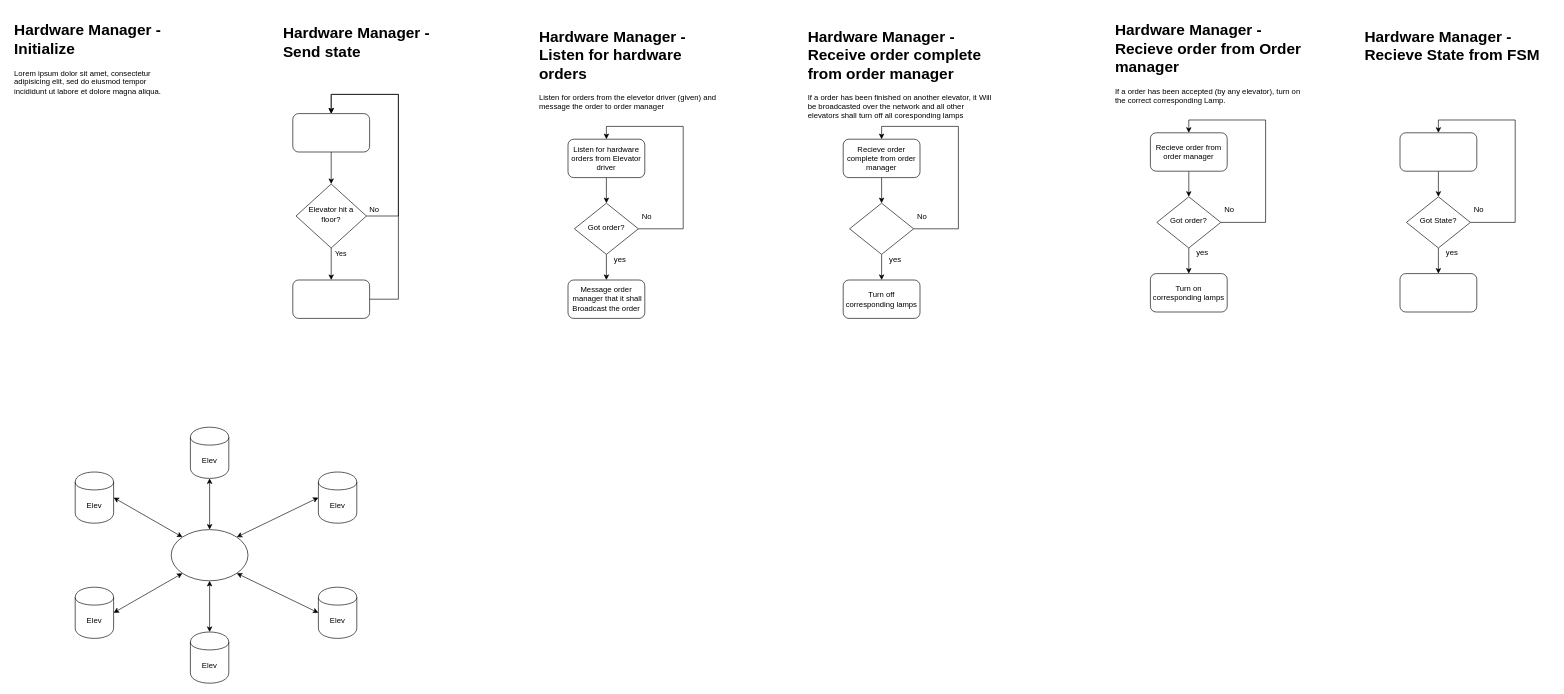
The diagram is 1564 pixels wide and 694 high, and some of its shapes have lost their labels. The shapes that lost their labels are listed below. From the top down, each one's centre as x and y in pixels, then its label:
point 331,132: Send state (motor speed) to FSM
point 1438,151: Recieve State from FSM
point 881,228: Got order complete?
point 331,298: Send floor Number hit to FSM
point 1438,292: Perform corresponding action
point 209,555: Network
